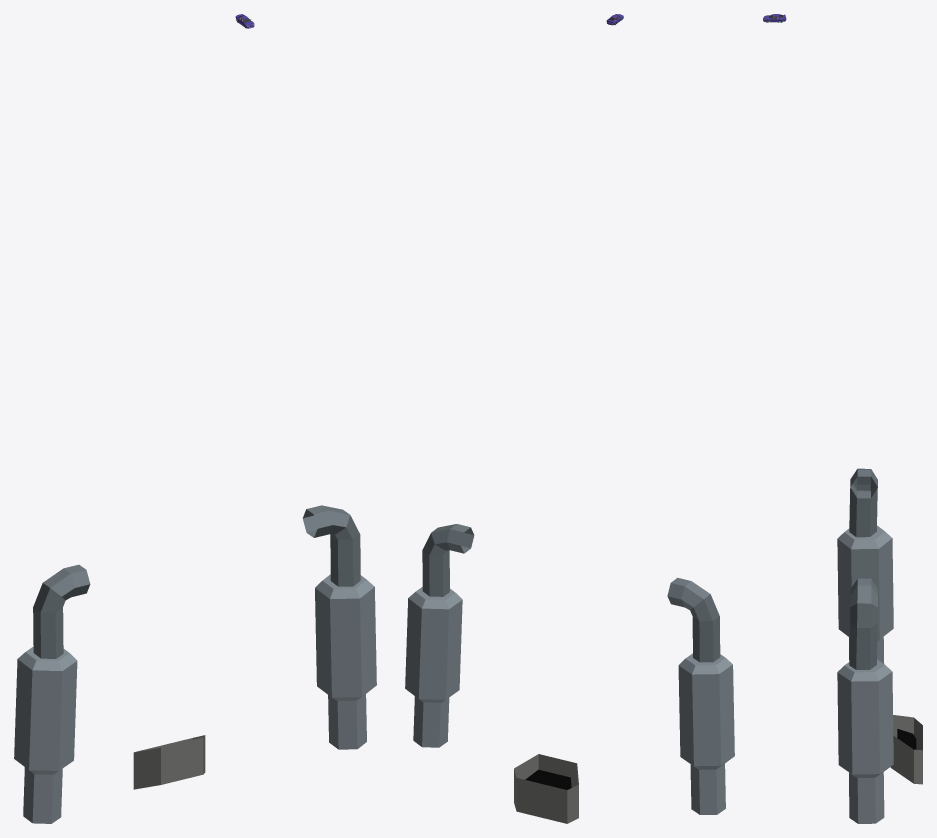
Rendered from car.fbx.
The picture shows the model from 3 angles, left to right: view 1: azimuth 30°, elevation 25°; view 2: azimuth 150°, elevation 25°; view 3: azimuth 270°, elevation 25°; orthographic projection. The views are drawn at different scales.
Parts seen in each view (by area): view 1: SM_Veh_Sedan_01_Rear_Bumper_01_Exhaust, SM_Veh_Sedan_01_Rear_Bumper_02_Exhaust; view 2: SM_Veh_Sedan_01_Rear_Bumper_01_Exhaust, SM_Veh_Sedan_01_Rear_Bumper_02_Exhaust; view 3: SM_Veh_Sedan_01_Rear_Bumper_01_Exhaust, SM_Veh_Sedan_01_Rear_Bumper_02_Exhaust.
Boxes of the visible parts, x1,y1,x2,y2 form: SM_Veh_Sedan_01_Rear_Bumper_01_Exhaust: [14, 505, 376, 823]; SM_Veh_Sedan_01_Rear_Bumper_02_Exhaust: [133, 735, 205, 789]; SM_Veh_Sedan_01_Rear_Bumper_01_Exhaust: [405, 524, 734, 814]; SM_Veh_Sedan_01_Rear_Bumper_02_Exhaust: [514, 754, 578, 823]; SM_Veh_Sedan_01_Rear_Bumper_01_Exhaust: [837, 468, 893, 823]; SM_Veh_Sedan_01_Rear_Bumper_02_Exhaust: [890, 715, 922, 784].
Size of the model in its own units: 10365 by 23444 by 4486.
